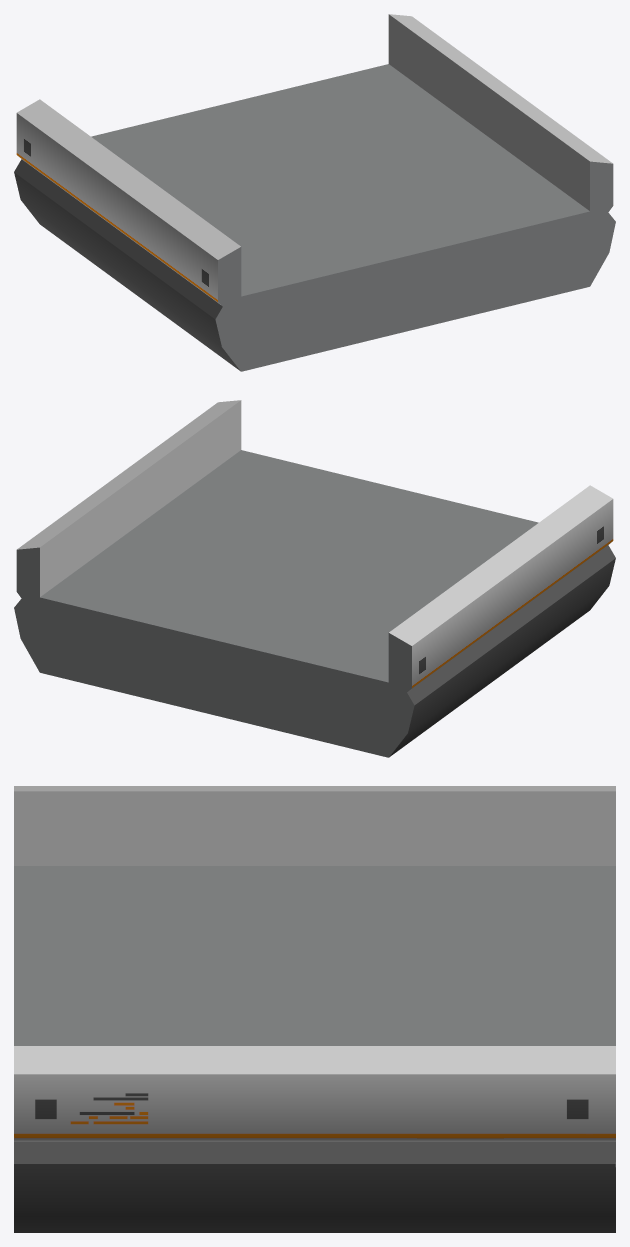
Rendered from Bridge4.fbx.
3 renders of one model, top to bottom at view 1: azimuth 30°, elevation 25°; view 2: azimuth 150°, elevation 25°; view 3: azimuth 270°, elevation 25°, orthographic. The views are drawn at different scales.
Parts seen in each view (by area): view 1: Bridge4; view 2: Bridge4; view 3: Bridge4.
Part boxes in pixels (<box>): Bridge4: <box>14,14,615,371</box>; Bridge4: <box>14,400,615,757</box>; Bridge4: <box>14,786,615,1232</box>.
Size of the model in its own units: 13.78 by 4.11 by 12.
